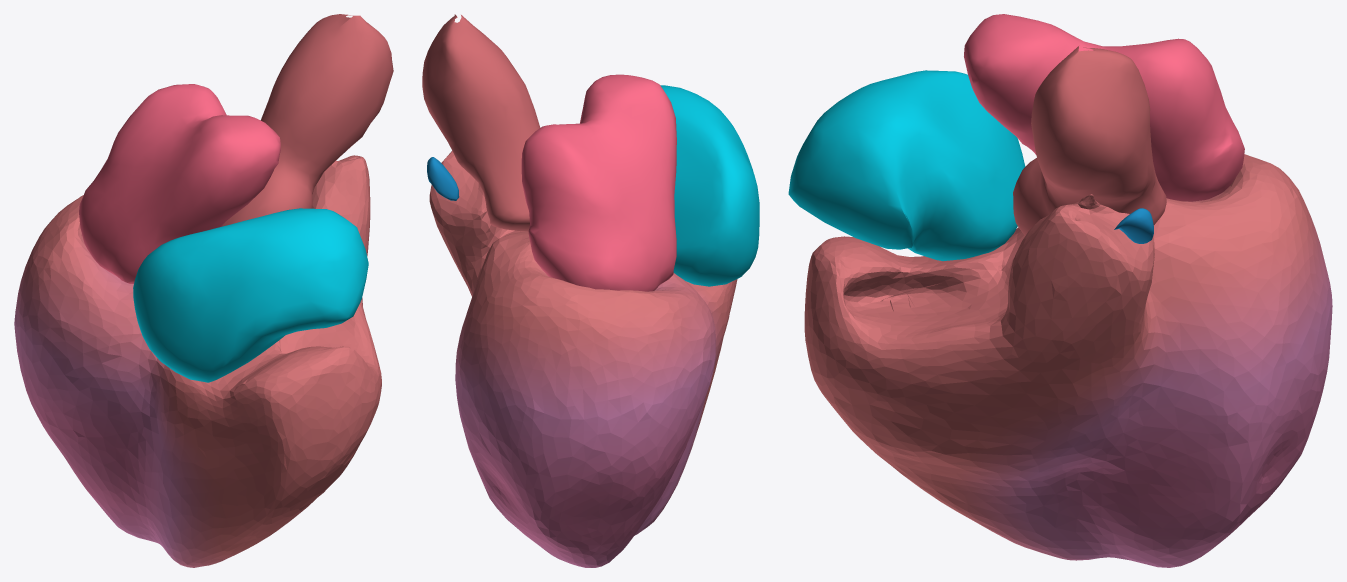
File: frame_28.glb
3 views of the same model, side by side, from view 1: azimuth 30°, elevation 25°; view 2: azimuth 150°, elevation 25°; view 3: azimuth 270°, elevation 25° (orthographic). The views are drawn at different scales.
Parts seen in each view (by area): view 1: Renderer Node; view 2: Renderer Node; view 3: Renderer Node.
Boxes of the visible parts, <box> form: Renderer Node: <box>14,14,393,567</box>; Renderer Node: <box>422,14,759,567</box>; Renderer Node: <box>788,14,1332,567</box>.
Bounding box in the file's own units: 99.96 × 153 × 123.
